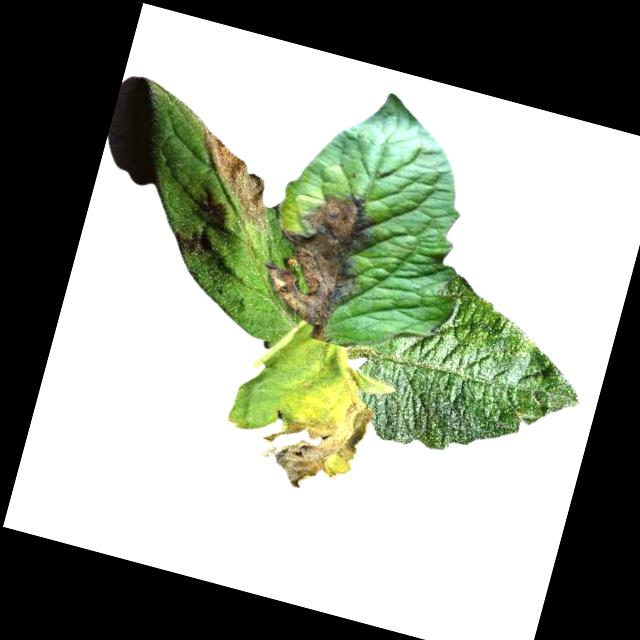Late_blight: (251, 177, 384, 349), (251, 349, 384, 502), (181, 123, 290, 233), (171, 223, 206, 258)
healthy: (341, 256, 600, 487)
